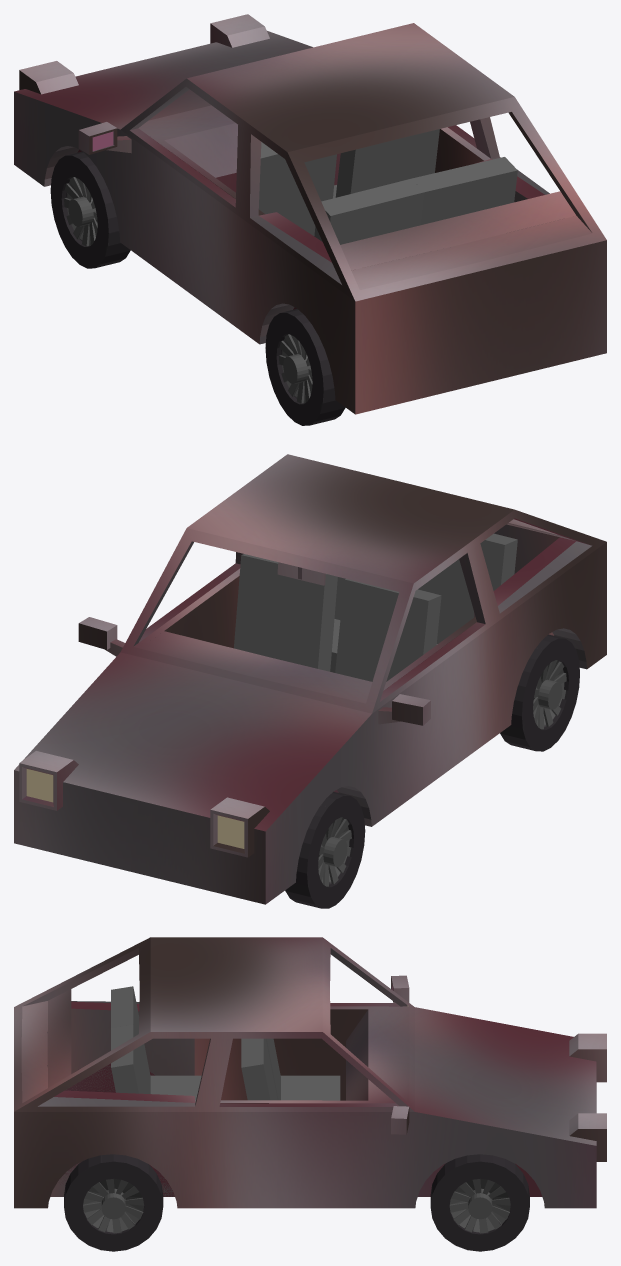
The model's file is The_Car.glb.
3 views of the same model, one above another, from view 1: azimuth 30°, elevation 25°; view 2: azimuth 150°, elevation 25°; view 3: azimuth 270°, elevation 25° (orthographic). The views are drawn at different scales.
Visible parts, largest first — view 1: Chassis-col, Back Seats, Front Seats, Back_Left_Wheel, Front_Left_Wheel; view 2: Chassis-col, Front Seats, Front_Left_Wheel, Back_Left_Wheel, Back Seats; view 3: Chassis-col, Front_Right_Wheel, Back_Right_Wheel, Back Seats, Front Seats.
Part boxes in pixels (box(x1,y1,x2,y2)): Chassis-col: box(14, 14, 606, 414); Back Seats: box(314, 157, 517, 244); Front Seats: box(258, 129, 439, 235); Back_Left_Wheel: box(265, 309, 345, 425); Front_Left_Wheel: box(50, 151, 130, 268); Chassis-col: box(14, 454, 606, 904); Front Seats: box(234, 554, 441, 681); Front_Left_Wheel: box(285, 791, 365, 908); Back_Left_Wheel: box(500, 634, 579, 751); Back Seats: box(330, 533, 517, 672); Chassis-col: box(14, 937, 606, 1208); Front_Right_Wheel: box(430, 1154, 529, 1251); Back_Right_Wheel: box(64, 1154, 163, 1251); Back Seats: box(111, 986, 201, 1100); Front Seats: box(241, 1038, 340, 1100).
Size of the model in its own units: 3.49 by 2.43 by 6.1.
7 materials, 7 textured.
